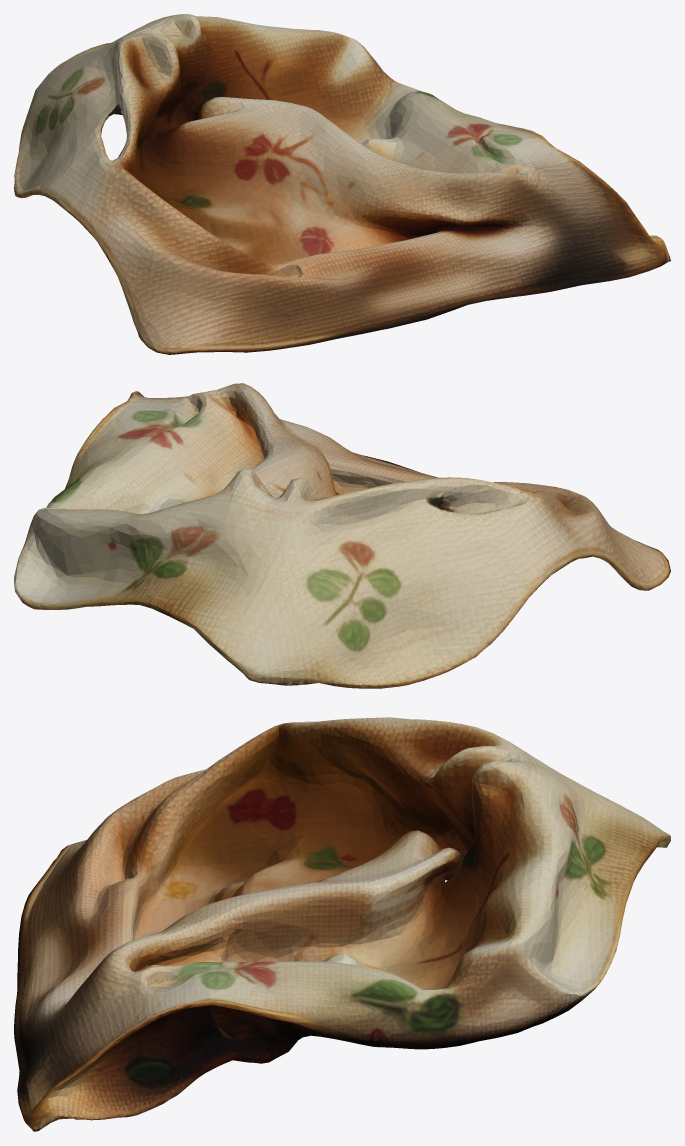
The model's file is hemp-food-wrap-vintage.jpeg.glb.
3 renders of one model, top to bottom at view 1: azimuth 30°, elevation 25°; view 2: azimuth 150°, elevation 25°; view 3: azimuth 270°, elevation 25°, orthographic. The views are drawn at different scales.
Visible parts, largest first — view 1: world; view 2: world; view 3: world.
Part boxes in pixels (left/top/right/bottom): world: left=14, top=14, right=670, bottom=354; world: left=14, top=383, right=670, bottom=688; world: left=14, top=717, right=670, bottom=1131.
Size of the model in its own units: 1 by 0.3388 by 0.9819.
1 material, 1 textured.
